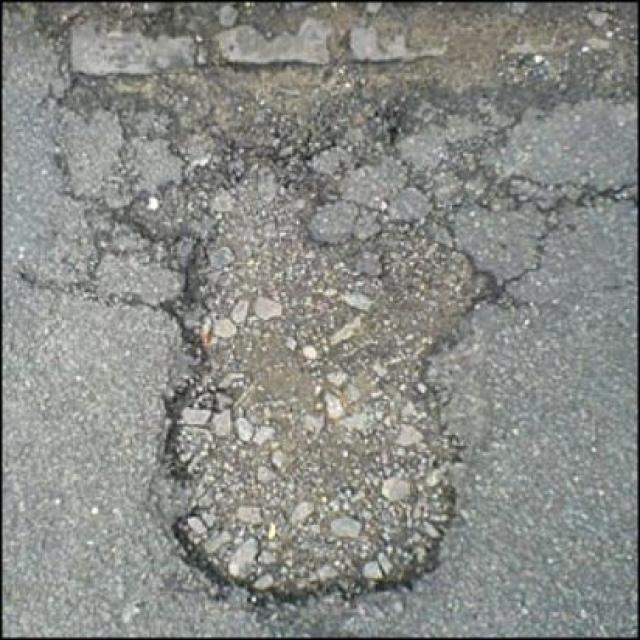pothole: (112, 140, 519, 609)
